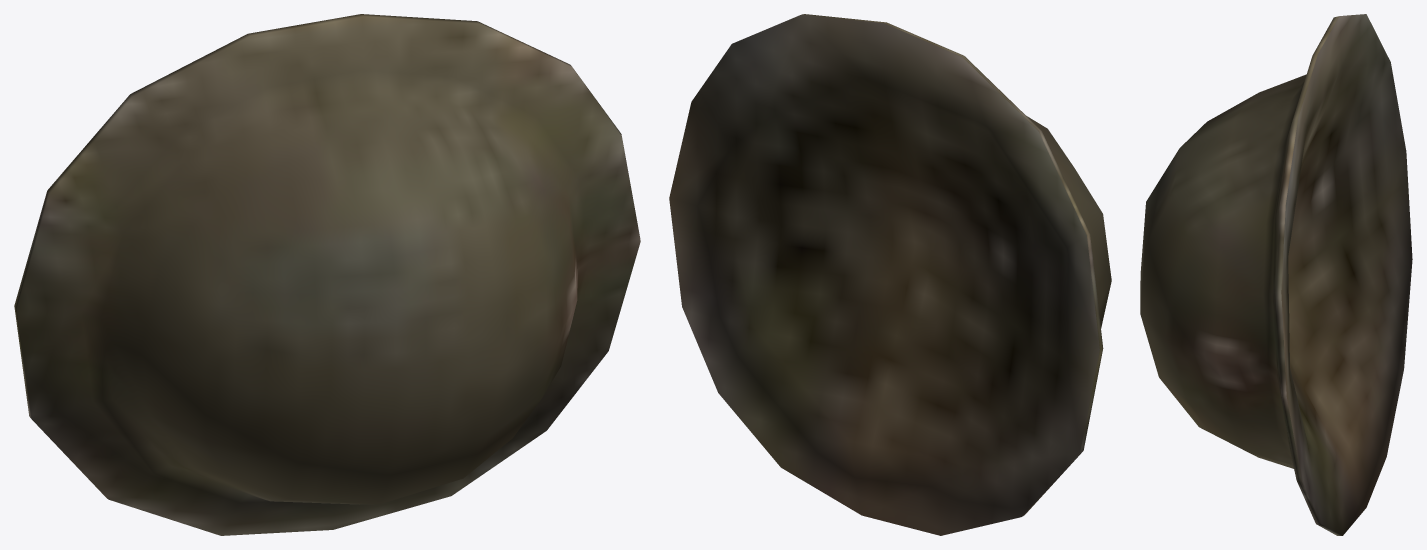
Rendered from helmet_british_normandy_a.glb.
3 views of the same model, side by side, from view 1: azimuth 30°, elevation 25°; view 2: azimuth 150°, elevation 25°; view 3: azimuth 270°, elevation 25° (orthographic). The views are drawn at different scales.
Bounding box in the file's own units: 12.93 × 11.85 × 6.42.
Materials: 1 (1 with a texture image).
